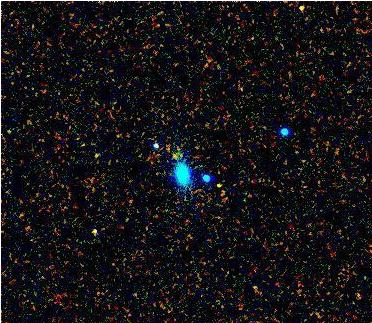star: (204, 170, 234, 200)
